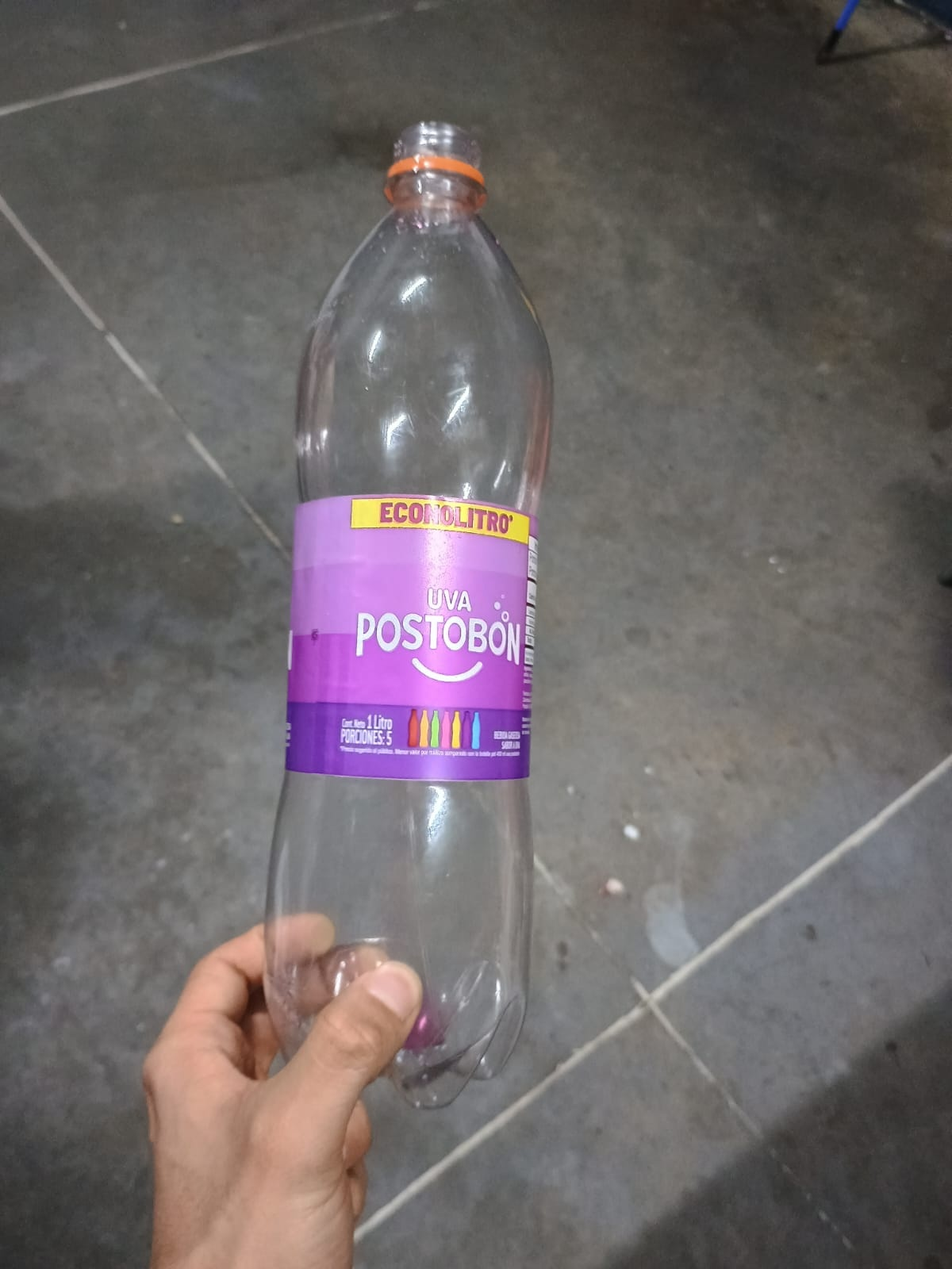Plastico: (262, 119, 558, 1111)
